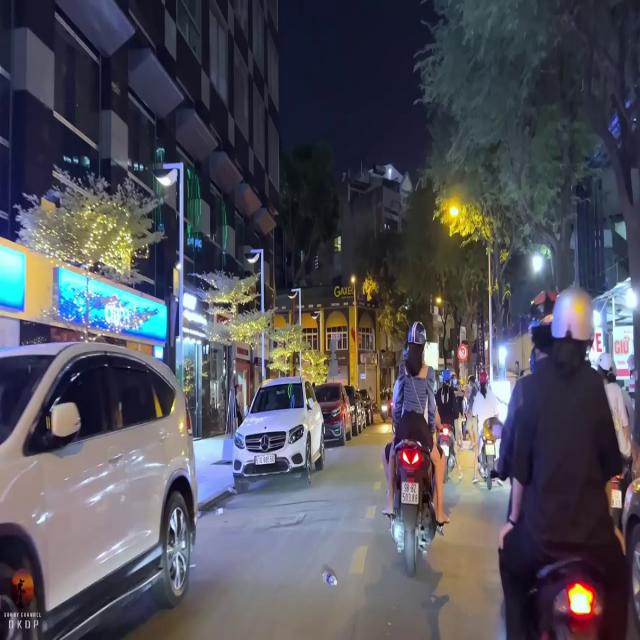bien_trang: (400, 481, 420, 506), (251, 452, 276, 467)
